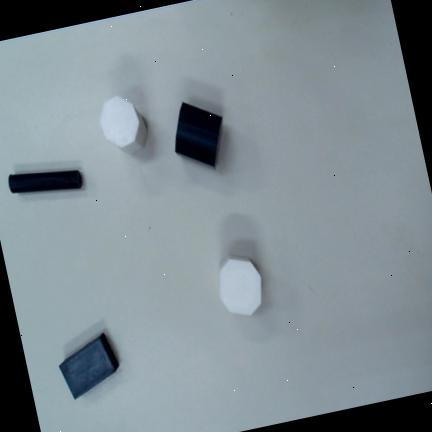Cilindro: (8, 170, 83, 194)
Paralelepipedo: (59, 332, 120, 399)
Prisma_hexagonal: (175, 102, 223, 168), (100, 96, 147, 154), (219, 256, 262, 315)
